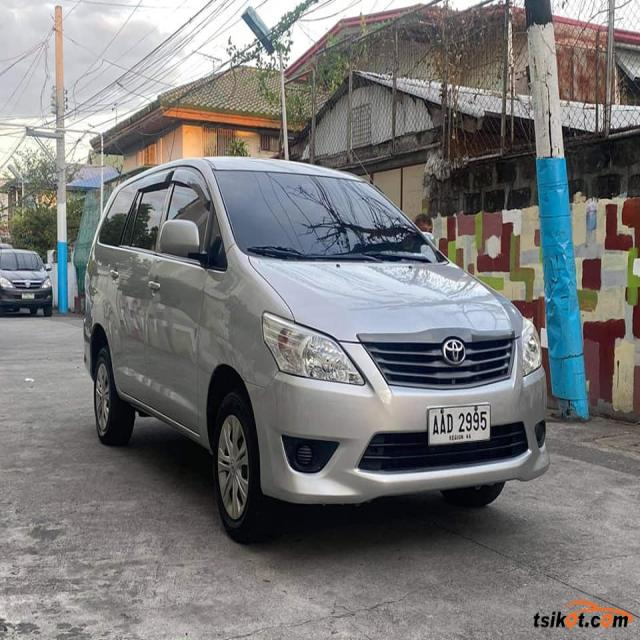light_vehicle: (0, 247, 53, 316)
